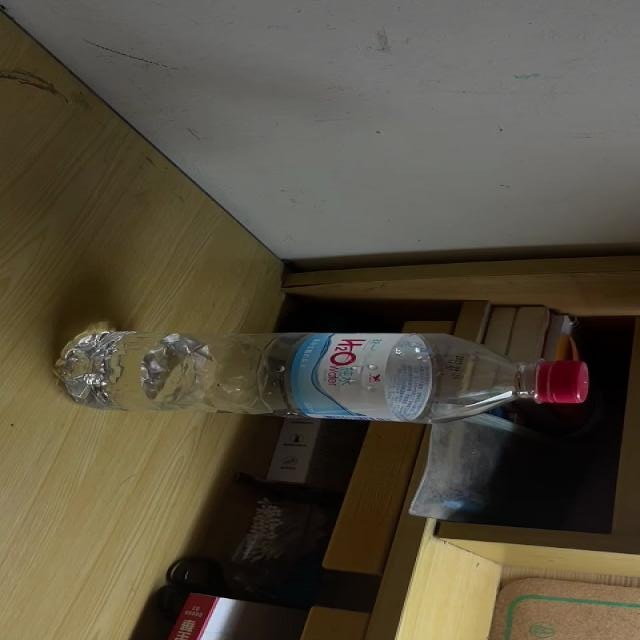Water: (49, 331, 592, 422)
